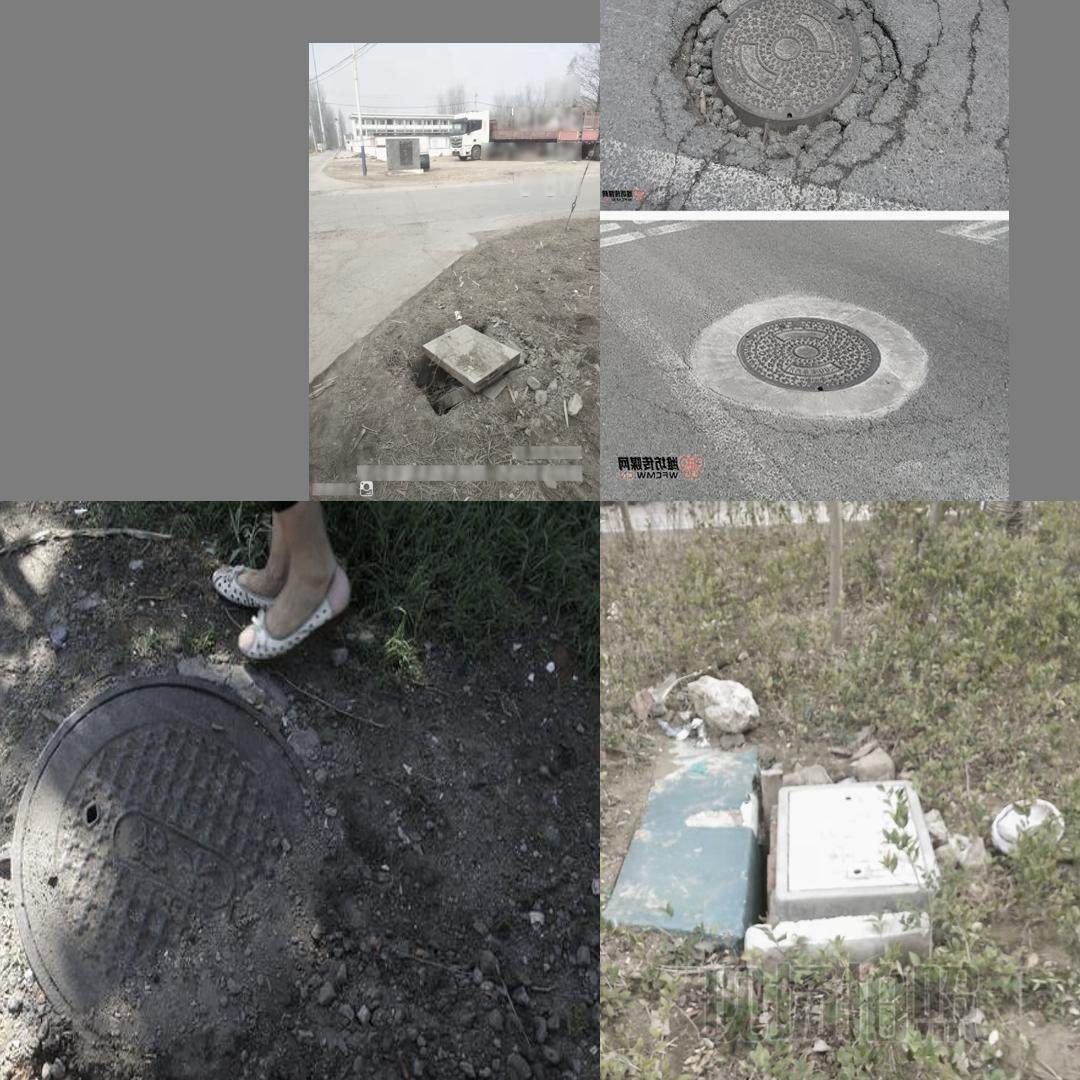circle: (0, 662, 400, 1080), (651, 0, 915, 173), (741, 767, 952, 950), (400, 313, 536, 424)
